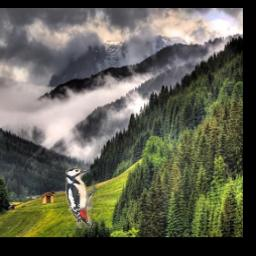Woodpecker: (175, 80, 227, 236), (66, 167, 98, 228)
